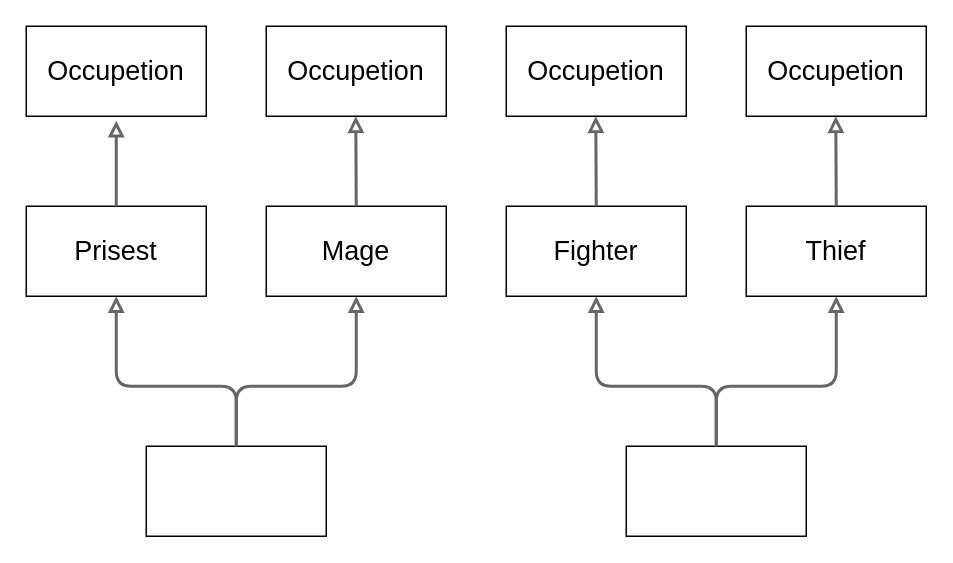
The diagram is 953 pixels wide and 563 high, and some of its shapes have lost their labels. The centre of each missing label's shape, as x and y in pixels:
"Bishop" goes at (x=235, y=490).
"Ninja" goes at (x=715, y=490).
